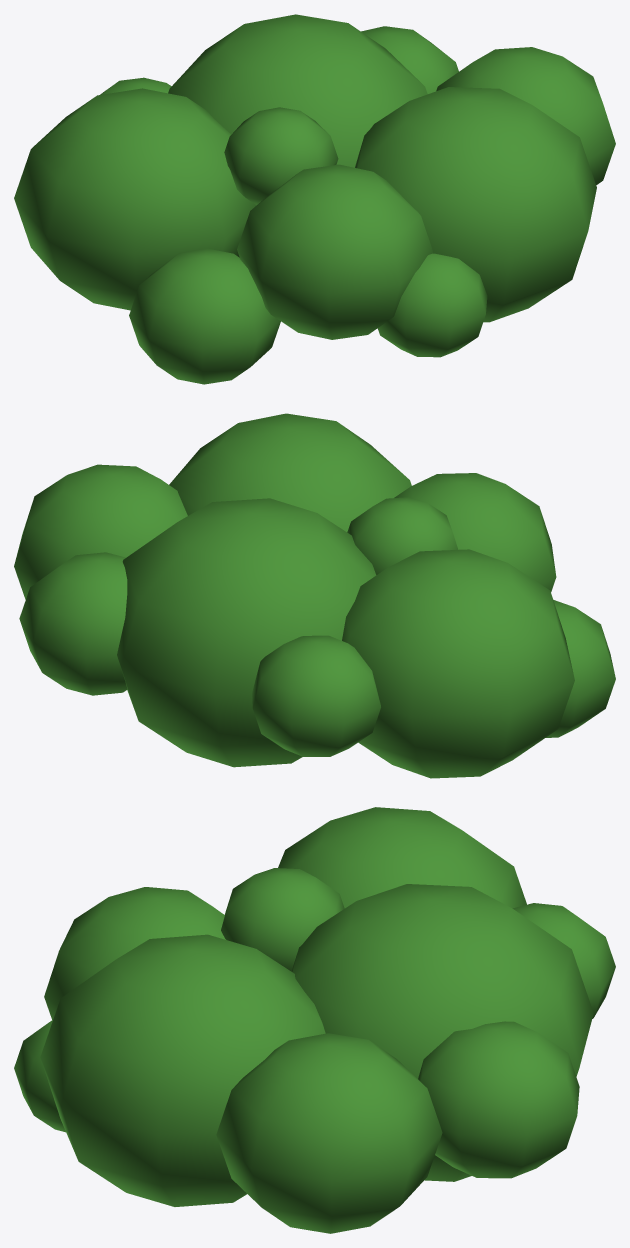
File: g_moss.fbx
3 renders of one model, top to bottom at view 1: azimuth 30°, elevation 25°; view 2: azimuth 150°, elevation 25°; view 3: azimuth 270°, elevation 25°, orthographic. The views are drawn at different scales.
Parts seen in each view (by area): view 1: g_moss; view 2: g_moss; view 3: g_moss.
Boxes of the visible parts, left/top/right/bottom form: g_moss: left=14, top=14, right=615, bottom=384; g_moss: left=14, top=413, right=615, bottom=778; g_moss: left=14, top=807, right=615, bottom=1233.
Bounding box in the file's own units: 44.51 × 18.16 × 36.98.
